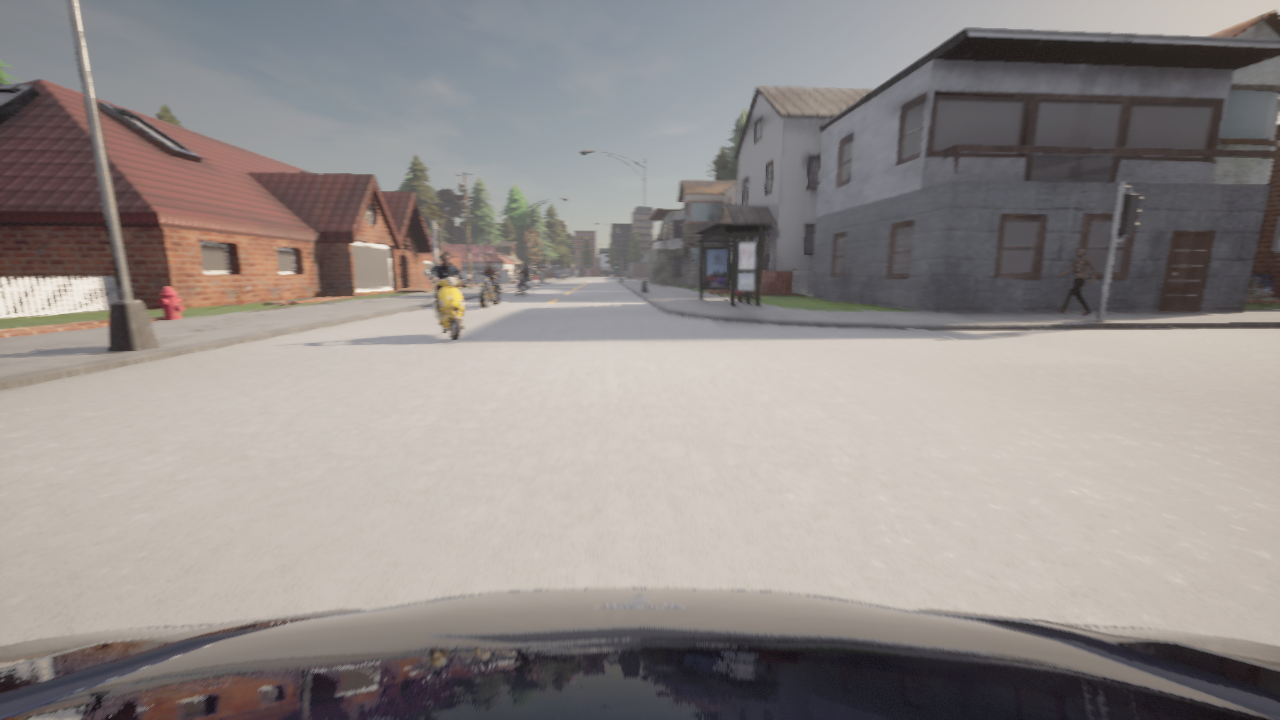cyclist: (0, 588, 1279, 719), (424, 269, 470, 340), (477, 271, 501, 307), (517, 275, 532, 294)
pedestrian: (1055, 247, 1096, 315)
